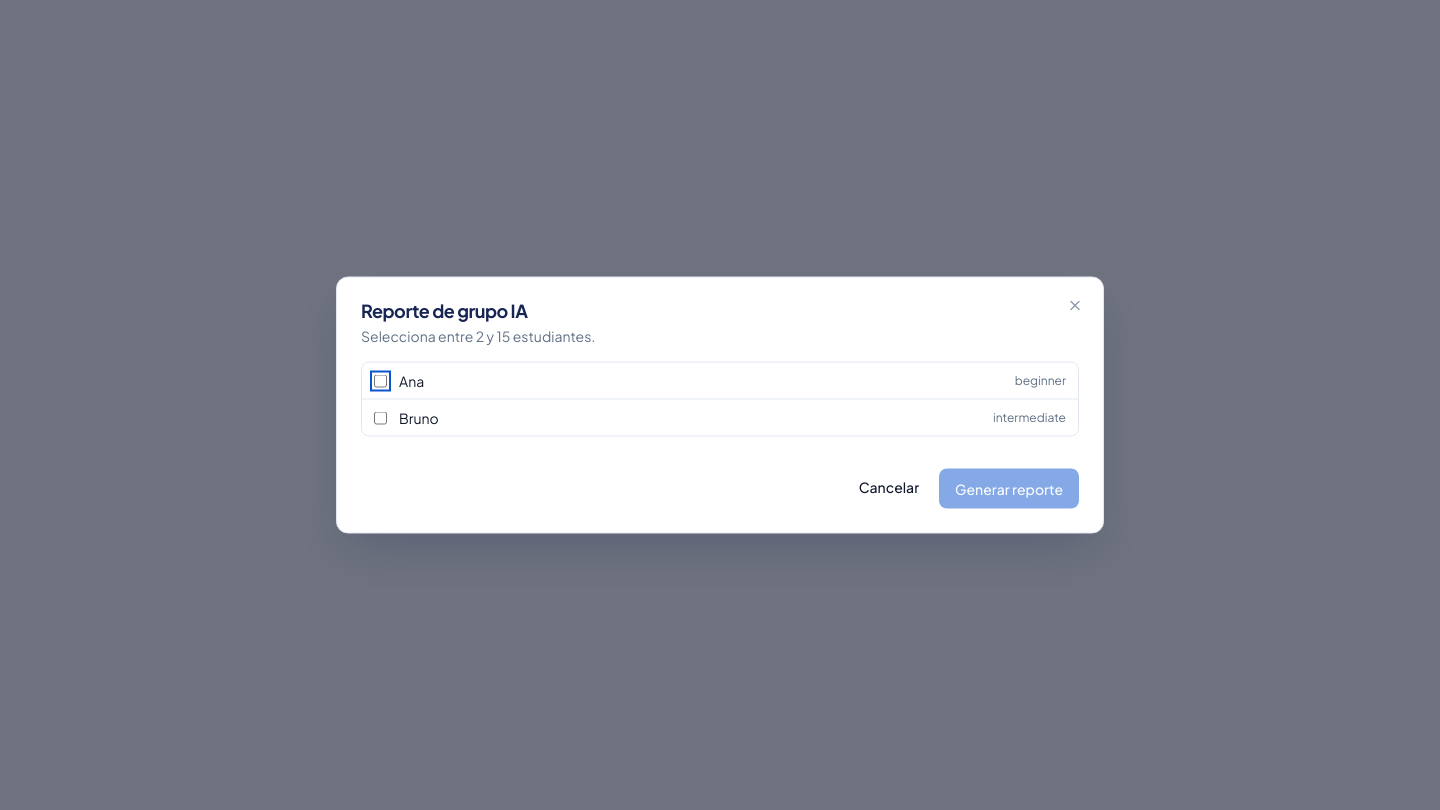
Scenario: CohortReportModal › disables generate button until at least 2 selected
Expected: the button "Generar reporte" is disabled, [939,468,1079,508]
Click the checkbox labelled "Ana" at x=380, y=380, box [374,374,387,387]
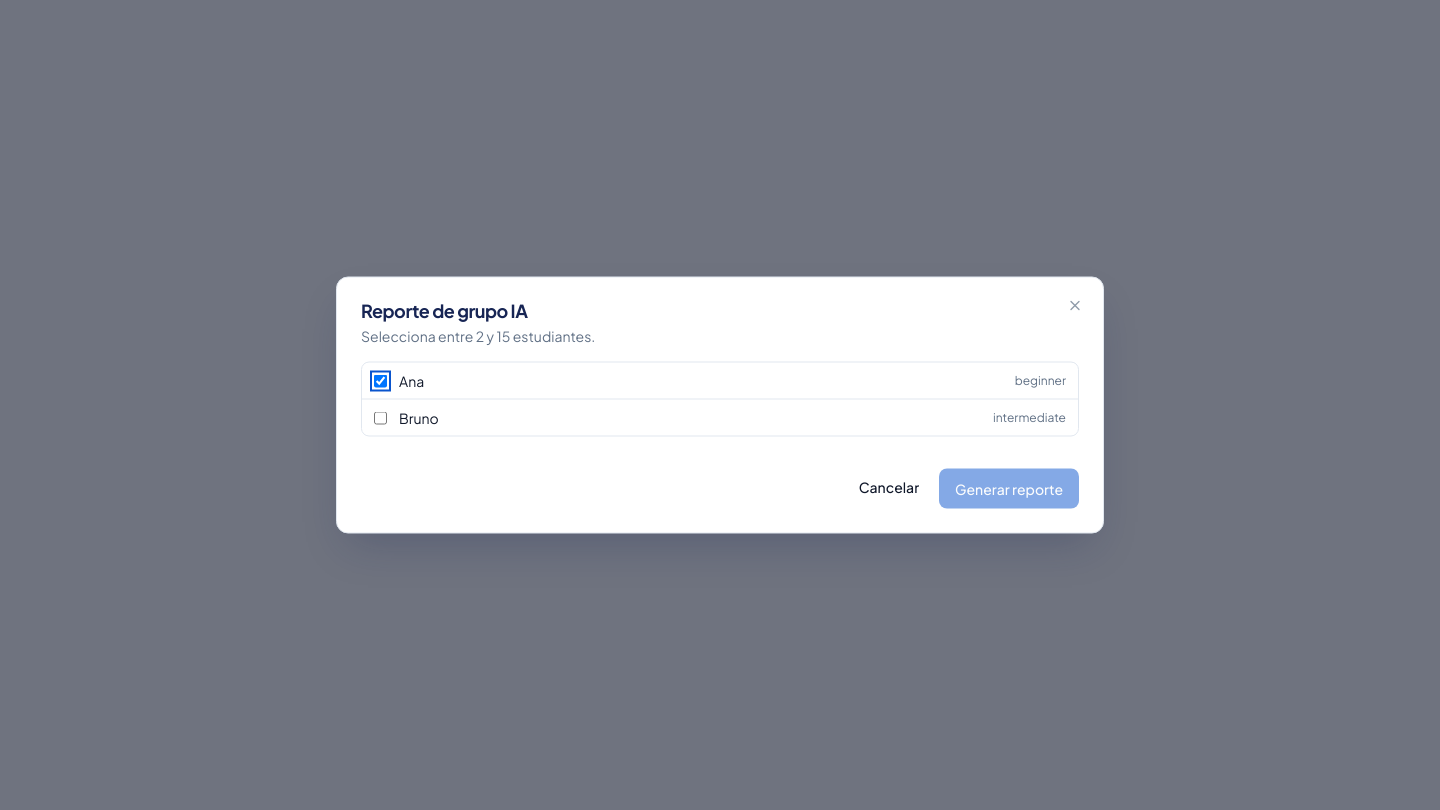
Expected: the button "Generar reporte" is disabled, [939,468,1079,508]
Click the checkbox labelled "Bruno" at x=380, y=418, box [374,411,387,424]
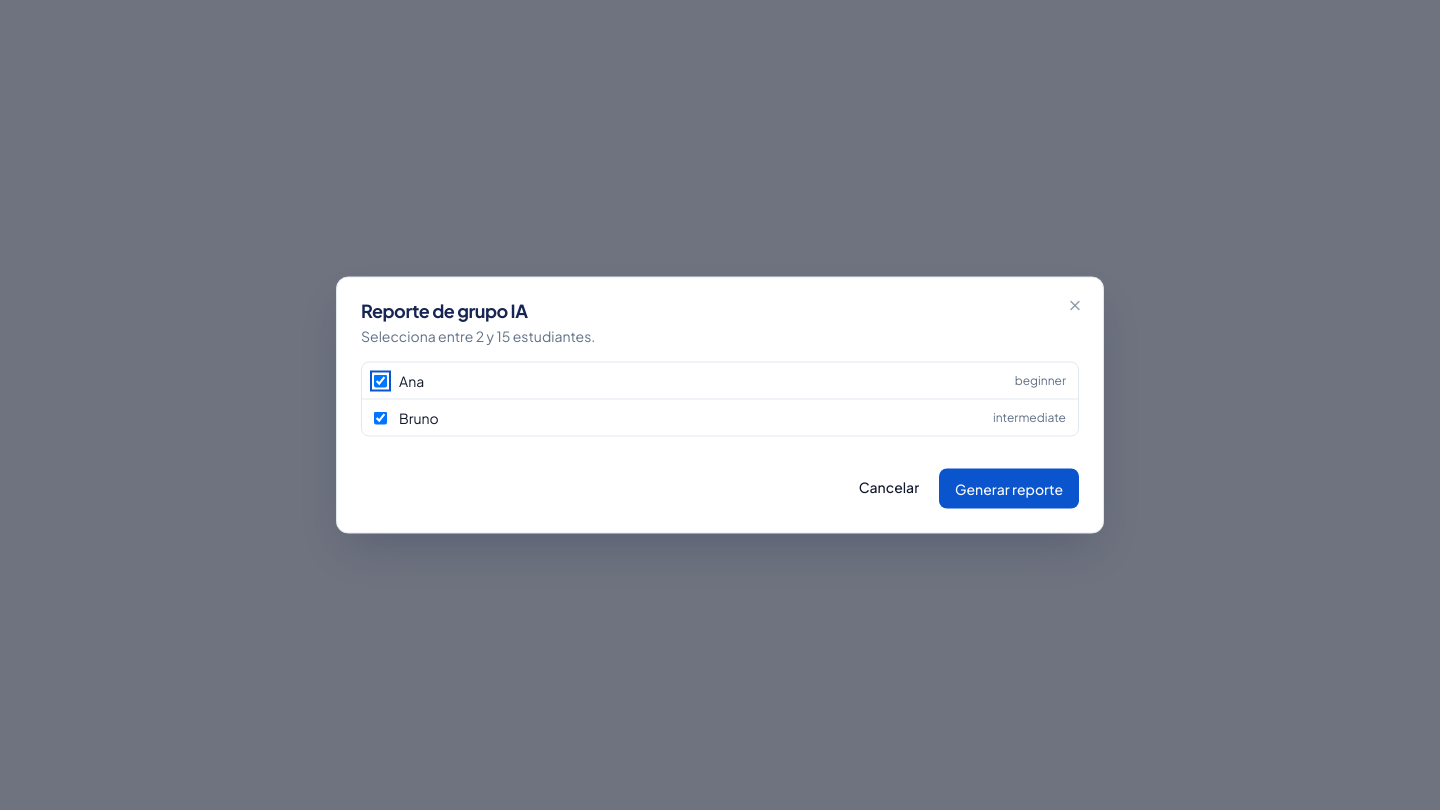
Result: the button "Generar reporte" is enabled at [939,468,1079,508]
